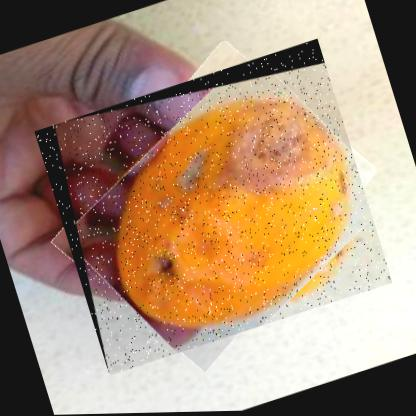orange_rotten: (34, 37, 393, 377)
